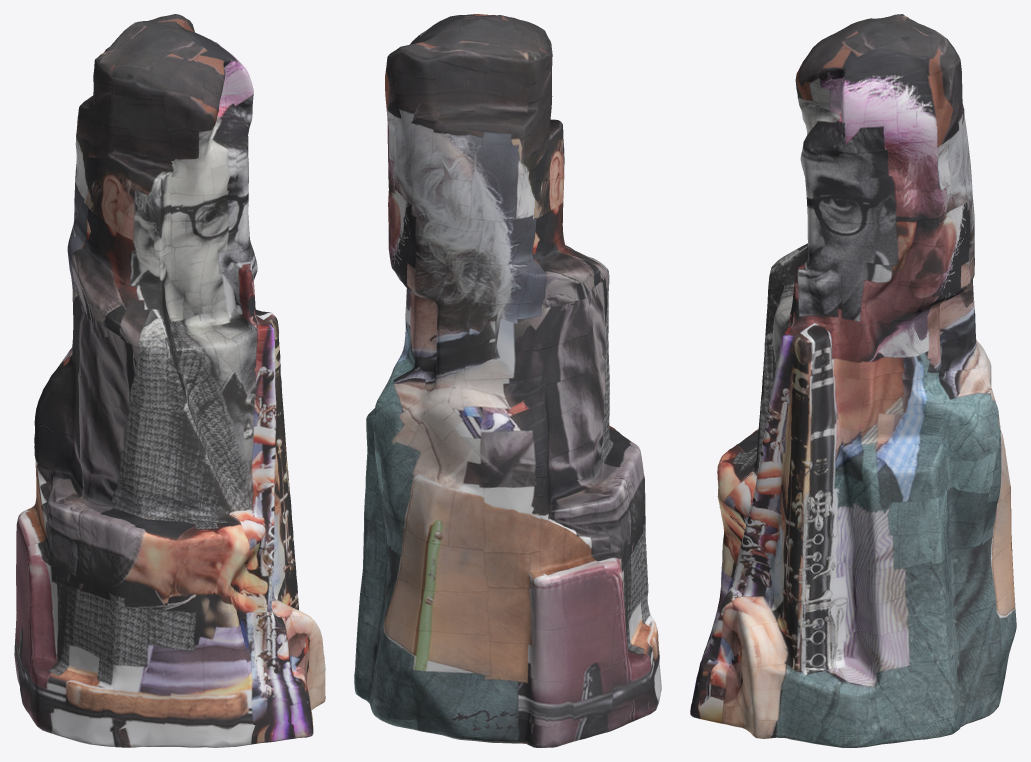
The model's file is 04_bustwa.glb.
The picture shows the model from 3 angles, left to right: view 1: azimuth 30°, elevation 25°; view 2: azimuth 150°, elevation 25°; view 3: azimuth 270°, elevation 25°; orthographic projection. The views are drawn at different scales.
Parts seen in each view (by area): view 1: Group19634; view 2: Group19634; view 3: Group19634.
Boxes of the visible parts, x1,y1,x2,y2 form: Group19634: (14, 14, 325, 747); Group19634: (354, 14, 661, 747); Group19634: (690, 14, 1016, 747).
Size of the model in its own units: 3.64 by 8.53 by 3.83.
1 material, 1 textured.
